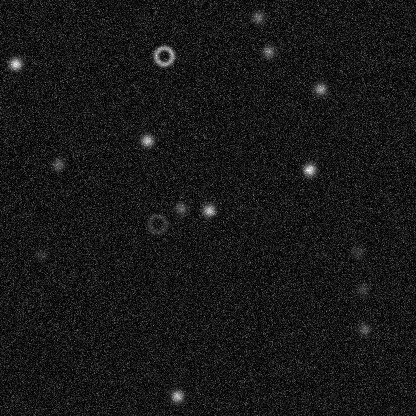Ring: (151, 43, 175, 67), (145, 211, 169, 235)
Spot: (172, 200, 188, 216), (32, 246, 48, 262), (356, 320, 372, 336), (50, 156, 66, 172), (249, 9, 265, 25), (349, 243, 365, 259), (139, 132, 155, 148), (354, 281, 370, 297), (169, 388, 185, 404), (7, 55, 23, 71), (260, 43, 276, 59), (201, 202, 217, 218), (301, 161, 317, 177), (312, 80, 328, 96)
